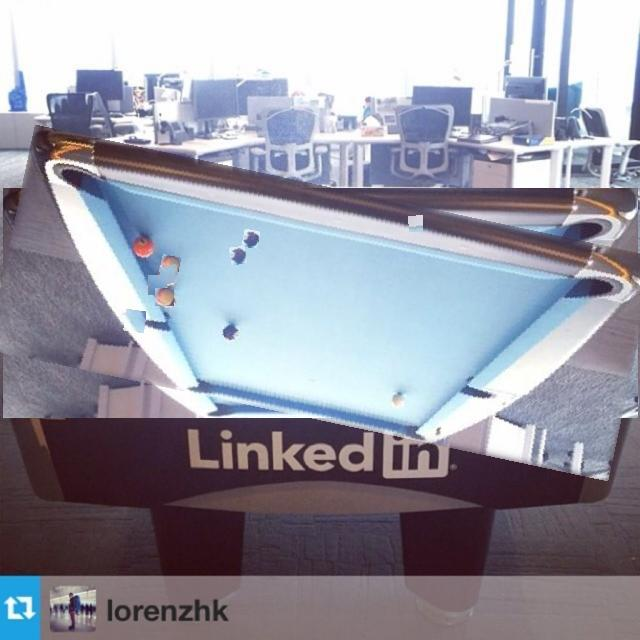Ball: (124, 310, 145, 332), (160, 265, 180, 285), (148, 275, 166, 295), (229, 246, 247, 265), (155, 288, 174, 306), (408, 215, 423, 232)
Billiard table: (0, 156, 640, 449)
